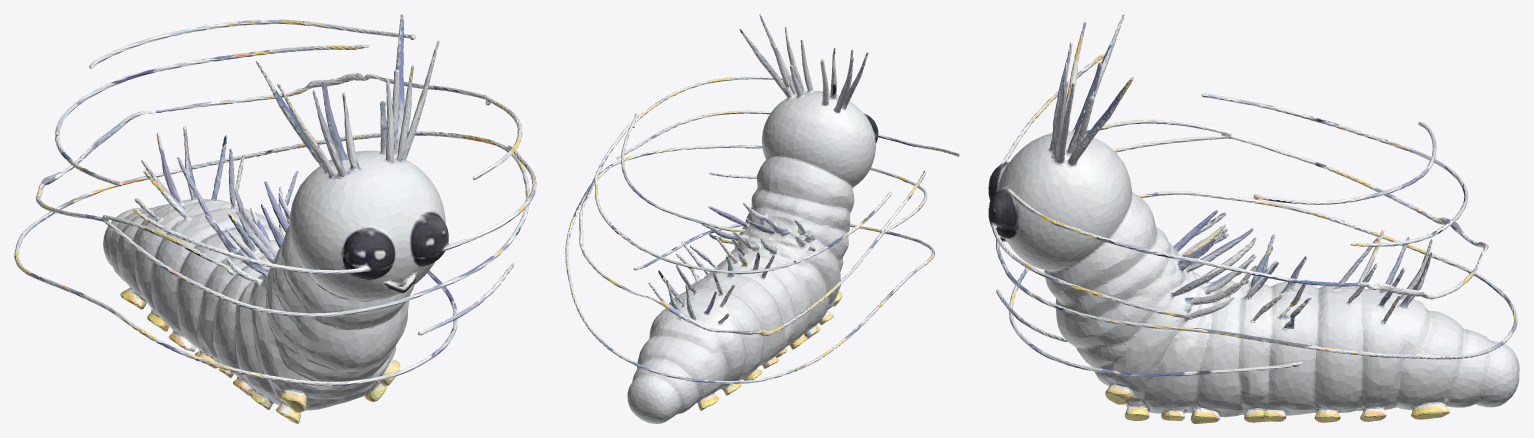
The model's file is creature-015.glb.
3 views of the same model, side by side, from view 1: azimuth 30°, elevation 25°; view 2: azimuth 150°, elevation 25°; view 3: azimuth 270°, elevation 25° (orthographic). The views are drawn at different scales.
Parts seen in each view (by area): view 1: tmporyk7nqw.ply; view 2: tmporyk7nqw.ply; view 3: tmporyk7nqw.ply.
Boxes of the visible parts, x1,y1,x2,y2 form: tmporyk7nqw.ply: (14,14,536,423); tmporyk7nqw.ply: (565,14,959,423); tmporyk7nqw.ply: (988,14,1519,423).
Size of the model in its own units: 1.76 by 1.5 by 1.99.
Materials: 1 (1 with a texture image).
